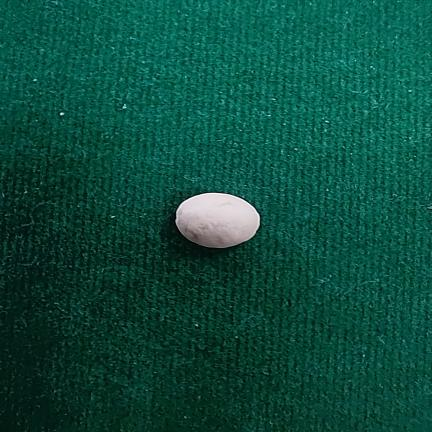immature: (176, 193, 260, 248)
